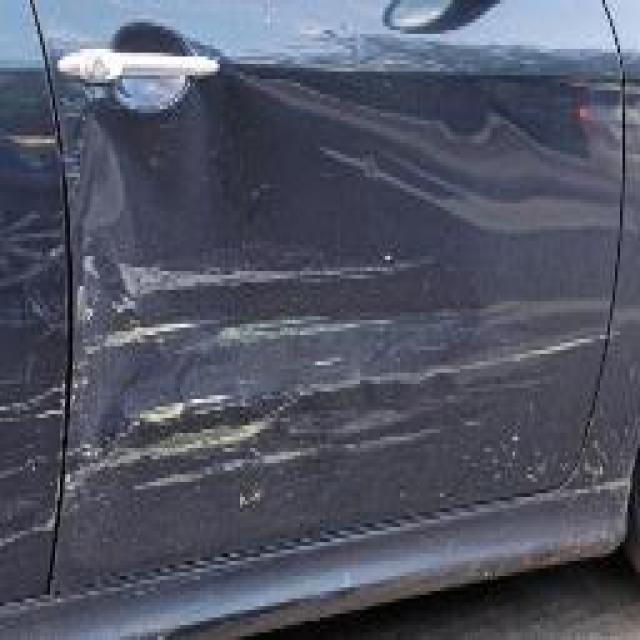Door: (68, 19, 602, 561), (2, 117, 70, 568)
